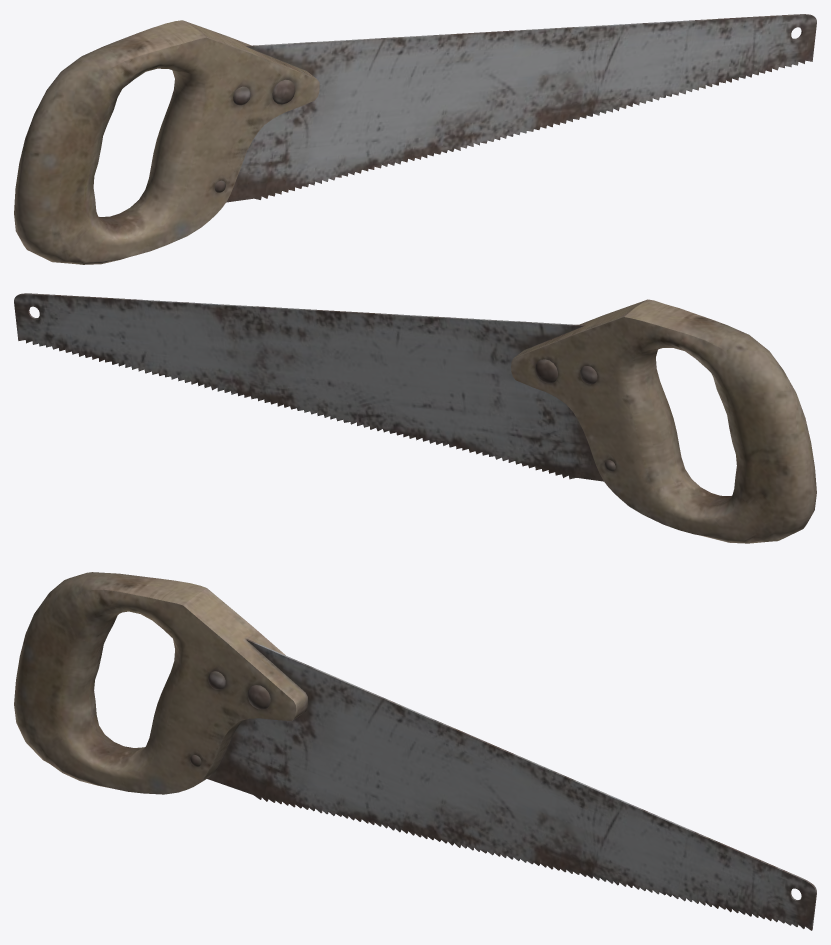
Rendered from hand-saw.glb.
3 views of the same model, one above another, from view 1: azimuth 30°, elevation 25°; view 2: azimuth 150°, elevation 25°; view 3: azimuth 330°, elevation 25° (orthographic).
Visible parts, largest first — view 1: handsaw_wood; view 2: handsaw_wood; view 3: handsaw_wood.
Boxes of the visible parts, x1,y1,x2,y2 form: handsaw_wood: (14,14,816,264); handsaw_wood: (14,293,816,543); handsaw_wood: (14,572,816,930).
Size of the model in its own units: 240 by 58.56 by 15.37.
1 material, 1 textured.
